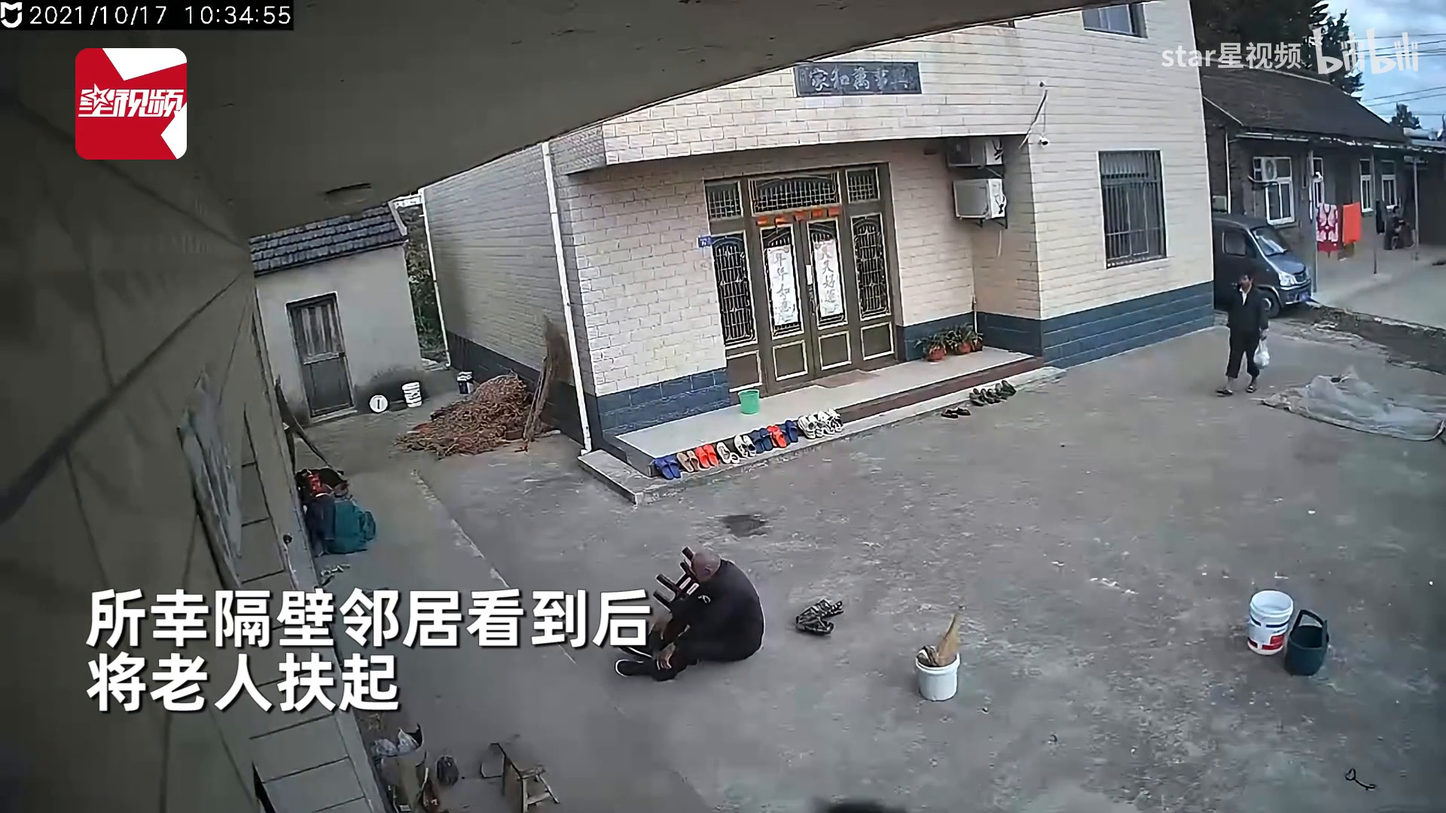half_up: (602, 550, 763, 681)
stand: (1214, 270, 1269, 396)
